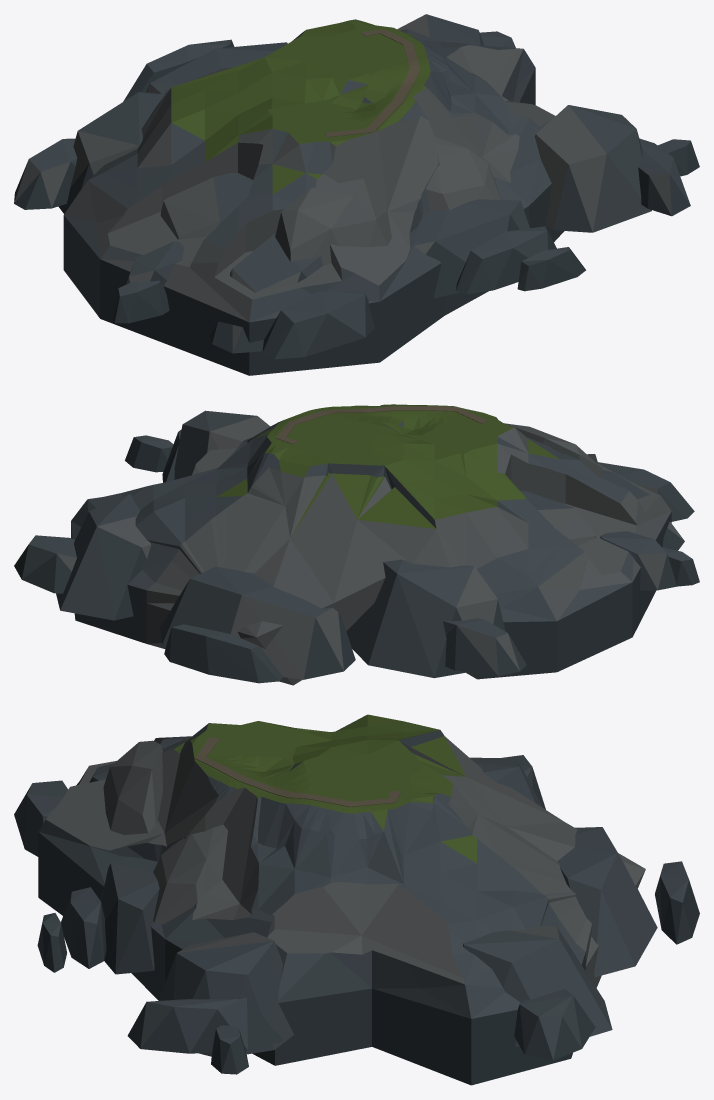
Rendered from island_c.glb.
The picture shows the model from 3 angles, top to bottom: view 1: azimuth 30°, elevation 25°; view 2: azimuth 150°, elevation 25°; view 3: azimuth 270°, elevation 25°; orthographic projection. The views are drawn at different scales.
Visible parts, largest first — view 1: island_c_Coast short olive grass, island_c_Coast blue grey bedrock, island_c_Coast weathered stone footpath; view 2: island_c_Coast short olive grass, island_c_Coast blue grey bedrock, island_c_Coast weathered stone footpath; view 3: island_c_Coast short olive grass, island_c_Coast blue grey bedrock, island_c_Coast weathered stone footpath.
Part boxes in pixels (x1,y1,x2,y2): island_c_Coast short olive grass: [63, 19, 564, 375]; island_c_Coast blue grey bedrock: [14, 14, 699, 359]; island_c_Coast weathered stone footpath: [325, 29, 419, 137]; island_c_Coast short olive grass: [71, 404, 671, 685]; island_c_Coast blue grey bedrock: [14, 410, 699, 683]; island_c_Coast weathered stone footpath: [276, 406, 488, 444]; island_c_Coast short olive grass: [38, 714, 645, 1085]; island_c_Coast blue grey bedrock: [14, 755, 699, 1074]; island_c_Coast weathered stone footpath: [195, 737, 400, 806].
Size of the model in its own units: 64.61 by 17.59 by 59.14.
